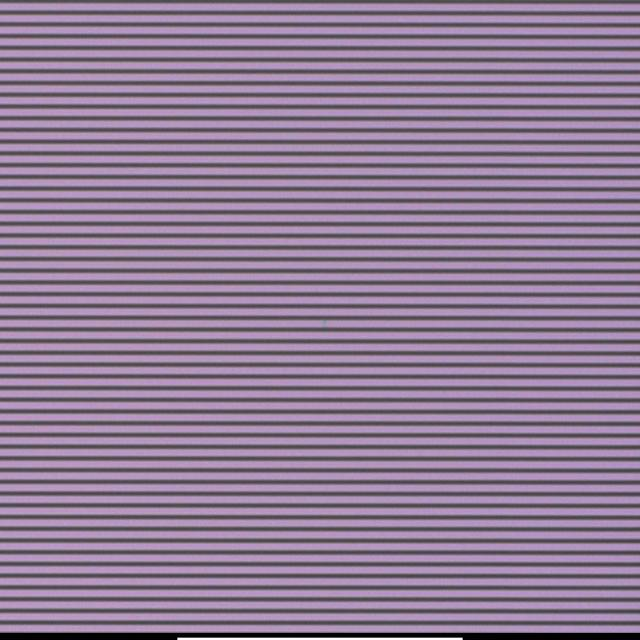nonvisual: (320, 315, 330, 329)
